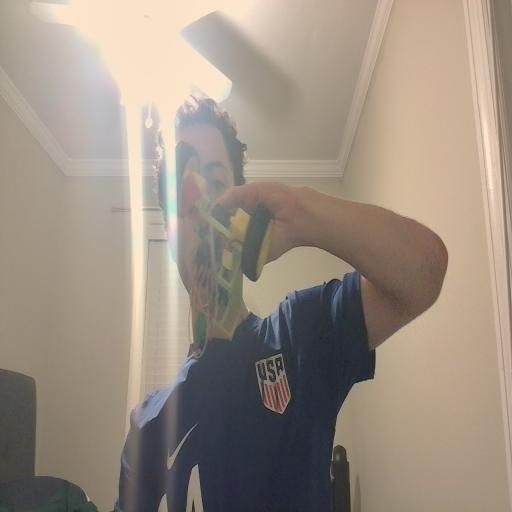green LEGO minifig: (193, 313, 208, 345)
